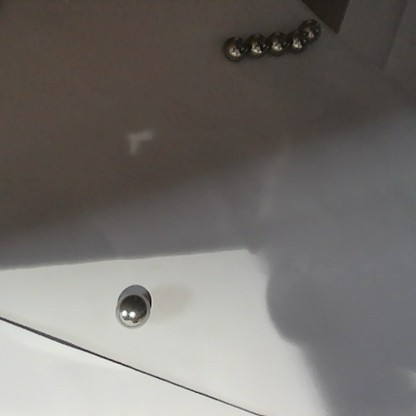ironball: (113, 292, 149, 328), (216, 31, 243, 64), (262, 30, 289, 58), (242, 31, 267, 61), (281, 28, 307, 56), (299, 16, 323, 41)
